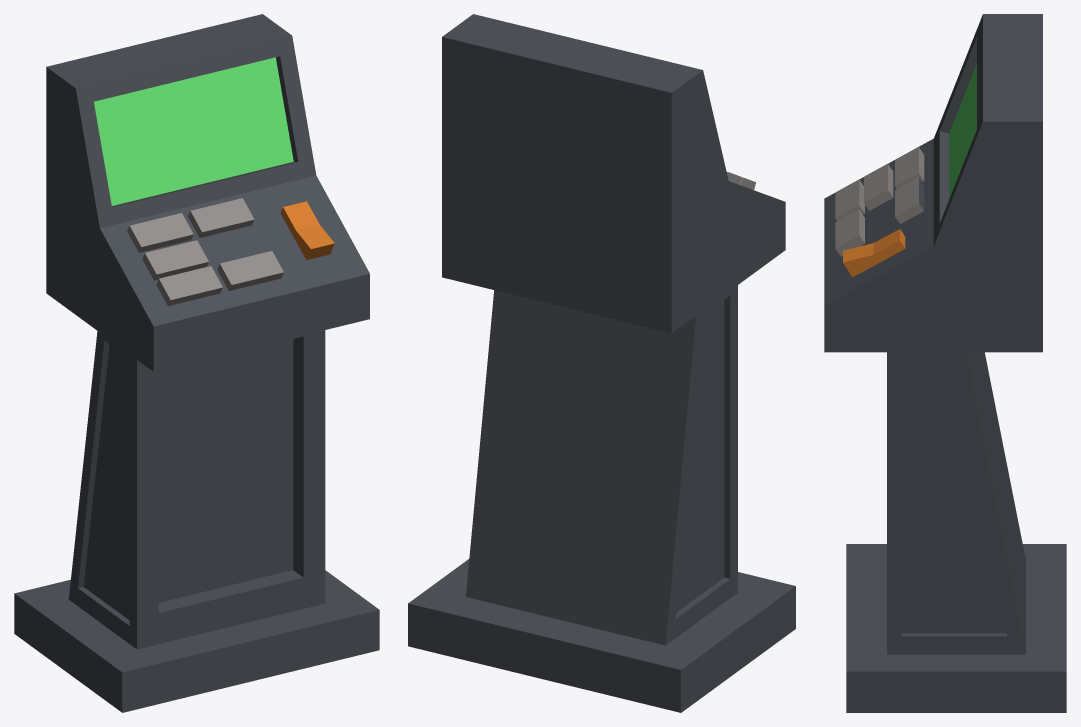
File: Butonul.fbx
3 renders of one model, left to right at view 1: azimuth 30°, elevation 25°; view 2: azimuth 150°, elevation 25°; view 3: azimuth 270°, elevation 25°, orthographic. The views are drawn at different scales.
Parts seen in each view (by area): view 1: Buton; view 2: Buton; view 3: Buton.
Part boxes in pixels (left/top/right/bottom): Buton: left=14, top=14, right=379, bottom=712; Buton: left=408, top=14, right=795, bottom=712; Buton: left=824, top=14, right=1066, bottom=712.
Bounding box in the file's own units: 49.49 × 105 × 39.65.
